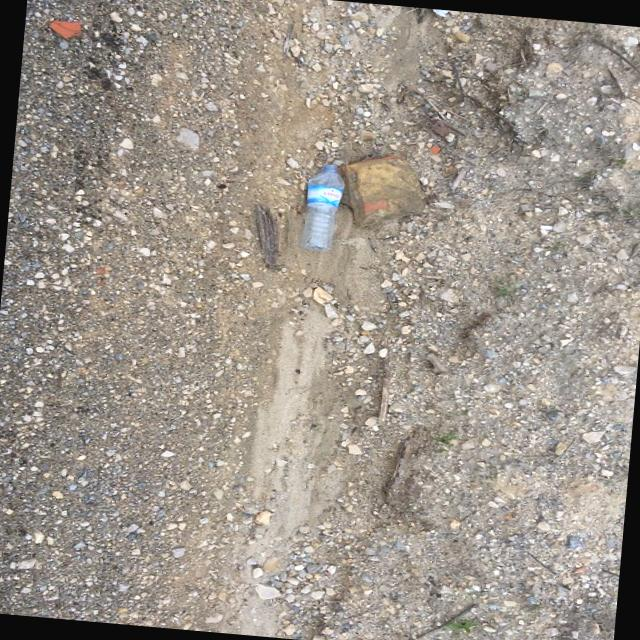Recycle: (304, 153, 346, 251)
